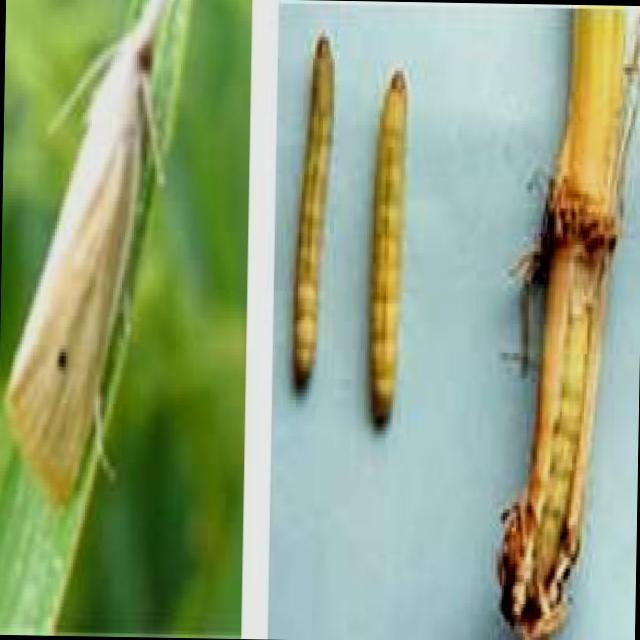stem borer: (6, 0, 173, 502), (293, 36, 333, 390), (369, 70, 406, 428)
